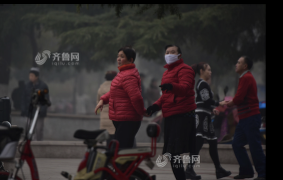with_mask: (162, 48, 178, 65)
without_mask: (114, 51, 129, 67), (233, 58, 243, 72), (202, 66, 212, 79)
